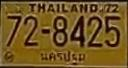2: (88, 16, 102, 47), (24, 16, 38, 46)
4: (70, 16, 84, 46)
5: (104, 15, 120, 47)
7: (6, 15, 21, 46)
8: (53, 15, 68, 46)
NPT: (39, 49, 86, 65)
